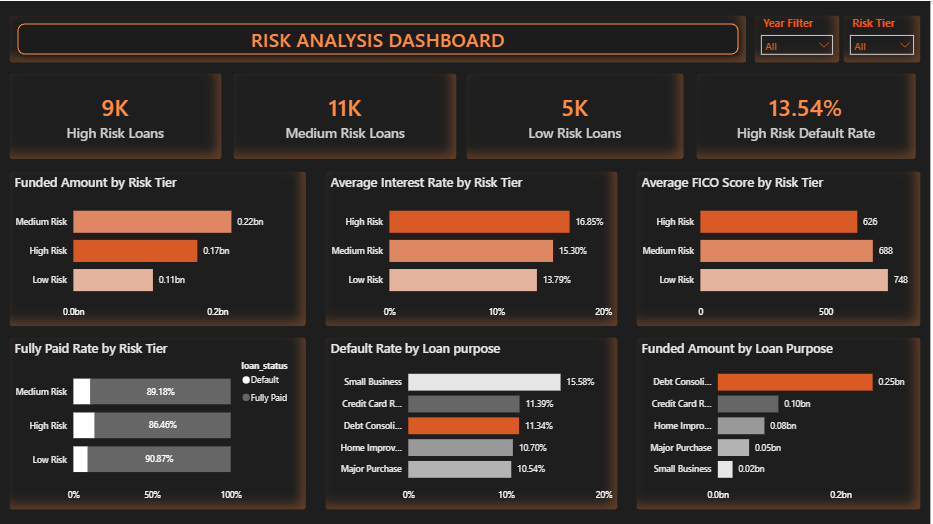

The page's visual inventory and layout, read from the dashboard file:
{"tool":"powerbi","page":{"name":"Risk Analysis","canvas":[1280,720],"ordinal":1},"visuals":[{"type":"shape","box":[11,17.9,1018.5,68.8],"z":0},{"type":"cardVisual","fields":{"Data":["Measure.High Risk Loans"]},"box":[11,97.7,295.9,122.5],"z":1},{"type":"cardVisual","fields":{"Data":["Measure.Medium Risk Loans"]},"box":[319.3,97.7,311.1,122.5],"z":2},{"type":"cardVisual","fields":{"Data":["Measure.Low Risk Loans"]},"box":[640,97.7,302.8,122.5],"z":3},{"type":"cardVisual","fields":{"Data":["Measure.High Risk Default Rate"]},"box":[956.6,97.7,305.5,122.5],"z":4},{"type":"slicer","fields":{"Values":["credit_risk_loans.issue_date.Variation.Date Hierarchy.Year"]},"box":[1036.4,17.9,121.1,68.8],"z":5},{"type":"slicer","fields":{"Values":["credit_risk_loans.risk_tier"]},"box":[1158.9,17.9,110.1,68.8],"z":6},{"type":"clusteredBarChart","title":"Funded Amount by Risk Tier","fields":{"Category":["credit_risk_loans.risk_tier"],"Y":["Sum(credit_risk_loans.funded_amount)"]},"box":[11,232.6,411.5,217.5],"z":7},{"type":"clusteredBarChart","title":"Average Interest Rate by Risk Tier","fields":{"Category":["credit_risk_loans.risk_tier"],"Y":["Measure.Avg Interest Rate"]},"box":[445.9,232.6,406,217.5],"z":8},{"type":"clusteredBarChart","title":"Average FICO Score by Risk Tier","fields":{"Category":["credit_risk_loans.risk_tier"],"Y":["Measure.Avg FICO Score Rounded"]},"box":[874,232.6,395,217.5],"z":9},{"type":"hundredPercentStackedBarChart","title":"Fully Paid Rate by Risk Tier","fields":{"Category":["credit_risk_loans.risk_tier"],"Series":["credit_risk_loans.loan_status"],"Y":["CountNonNull(credit_risk_loans.loan_id)"]},"box":[11,461.1,411.5,240.9],"z":10},{"type":"clusteredBarChart","title":"Default Rate by Loan purpose","fields":{"Category":["credit_risk_loans.purpose"],"Y":["Measure.Default Rate"]},"box":[446,461,406,241],"z":11},{"type":"clusteredBarChart","title":"Funded Amount by Loan Purpose","fields":{"Category":["credit_risk_loans.purpose"],"Y":["Sum(credit_risk_loans.funded_amount)"]},"box":[874,461,395,241],"z":12}]}

Visuals, with their boxes in screenshot pixels (x1, y1, x2, y2), scaled from the page's 1280x720 canvas onto the 933x524 screenshot:
shape: 8:13:750:63
cardVisual - Measure.High Risk Loans: 8:71:224:160
cardVisual - Measure.Medium Risk Loans: 233:71:460:160
cardVisual - Measure.Low Risk Loans: 466:71:687:160
cardVisual - Measure.High Risk Default Rate: 697:71:920:160
slicer - credit_risk_loans.issue_date.Variation.Date Hierarchy.Year: 755:13:844:63
slicer - credit_risk_loans.risk_tier: 845:13:925:63
"Funded Amount by Risk Tier" clusteredBarChart: 8:169:308:328
"Average Interest Rate by Risk Tier" clusteredBarChart: 325:169:621:328
"Average FICO Score by Risk Tier" clusteredBarChart: 637:169:925:328
"Fully Paid Rate by Risk Tier" hundredPercentStackedBarChart: 8:336:308:511
"Default Rate by Loan purpose" clusteredBarChart: 325:336:621:511
"Funded Amount by Loan Purpose" clusteredBarChart: 637:336:925:511
